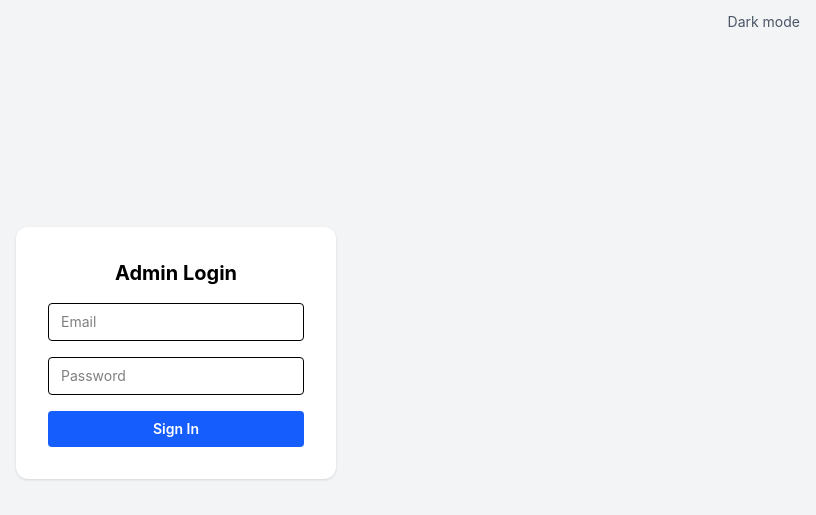
Test: admin session-owner lifecycle › leaves no session owner recorded when a non-admin login is refused.
Type "user@example.com" into the field with test id "login-email-input" at (176, 322), box [48, 303, 304, 341]
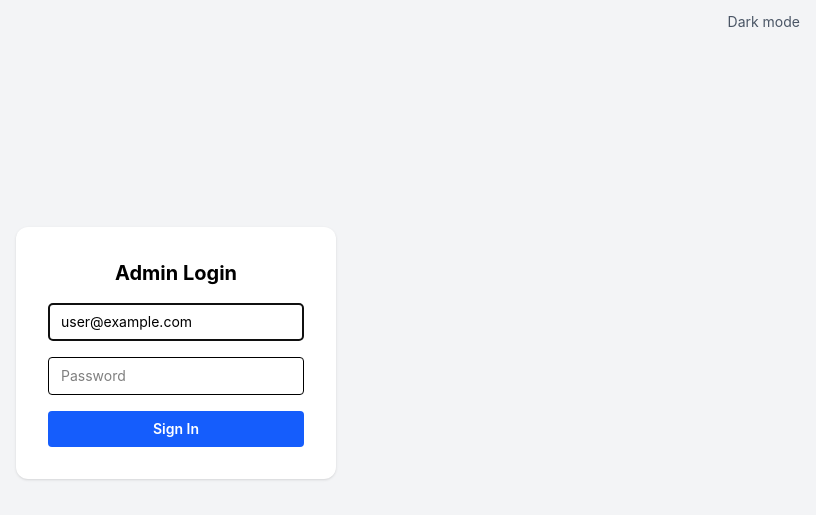
Type "password" into the password field with test id "login-password-input" at (176, 376), box [48, 357, 304, 395]
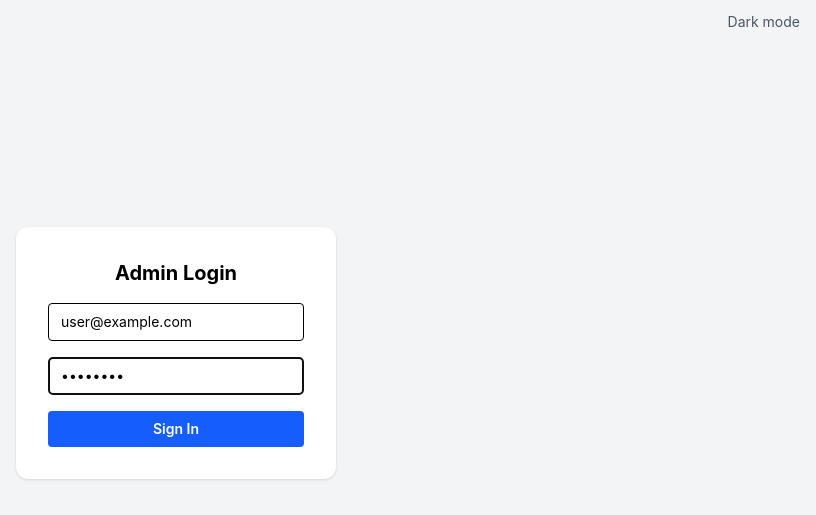
Click the button with test id "login-submit-button" at (176, 429), box [48, 411, 304, 447]
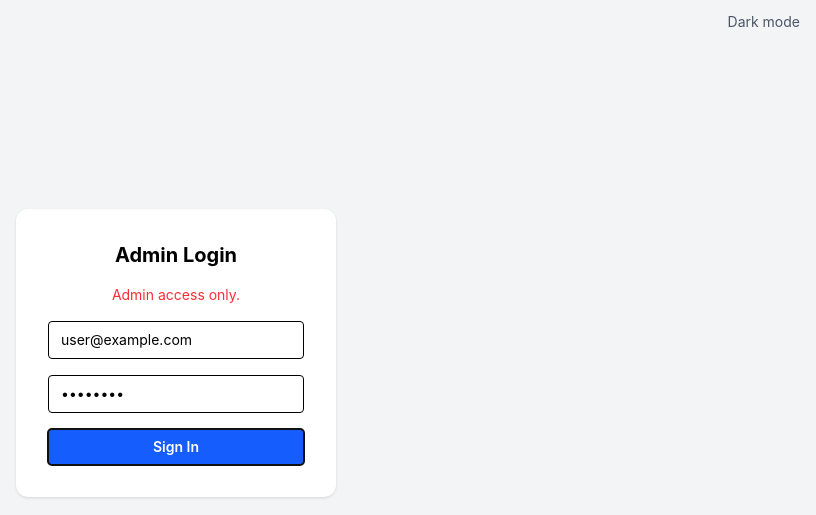
Expected: the text "Admin access only." is shown, [112, 286, 240, 303]
